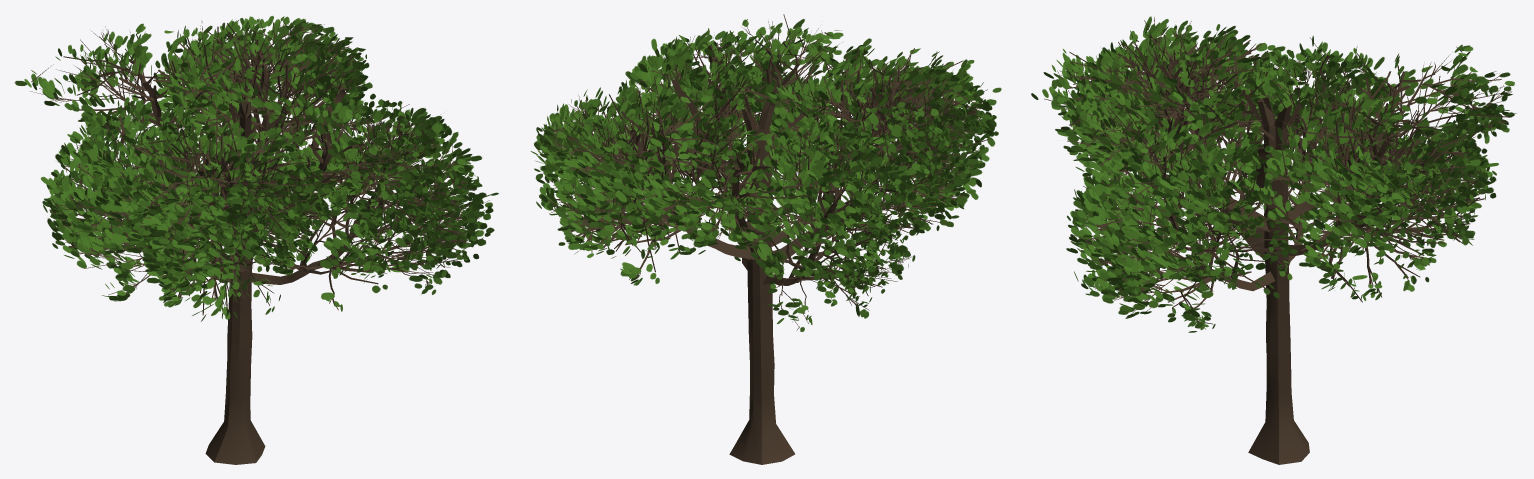
3 views of the same model, side by side, from view 1: azimuth 30°, elevation 25°; view 2: azimuth 150°, elevation 25°; view 3: azimuth 270°, elevation 25° (orthographic). The views are drawn at different scales.
Parts seen in each view (by area): view 1: oak 01.001_trunk_Mat.001_0.125; view 2: oak 01.001_trunk_Mat.001_0.125; view 3: oak 01.001_trunk_Mat.001_0.125.
Part boxes in pixels (box(x1,y1,x2,y2)): oak 01.001_trunk_Mat.001_0.125: box(14, 16, 498, 464); oak 01.001_trunk_Mat.001_0.125: box(530, 14, 1001, 464); oak 01.001_trunk_Mat.001_0.125: box(1031, 16, 1516, 464).
Bounding box in the file's own units: 5.91 × 5.35 × 6.41.
2 materials, 1 textured.
